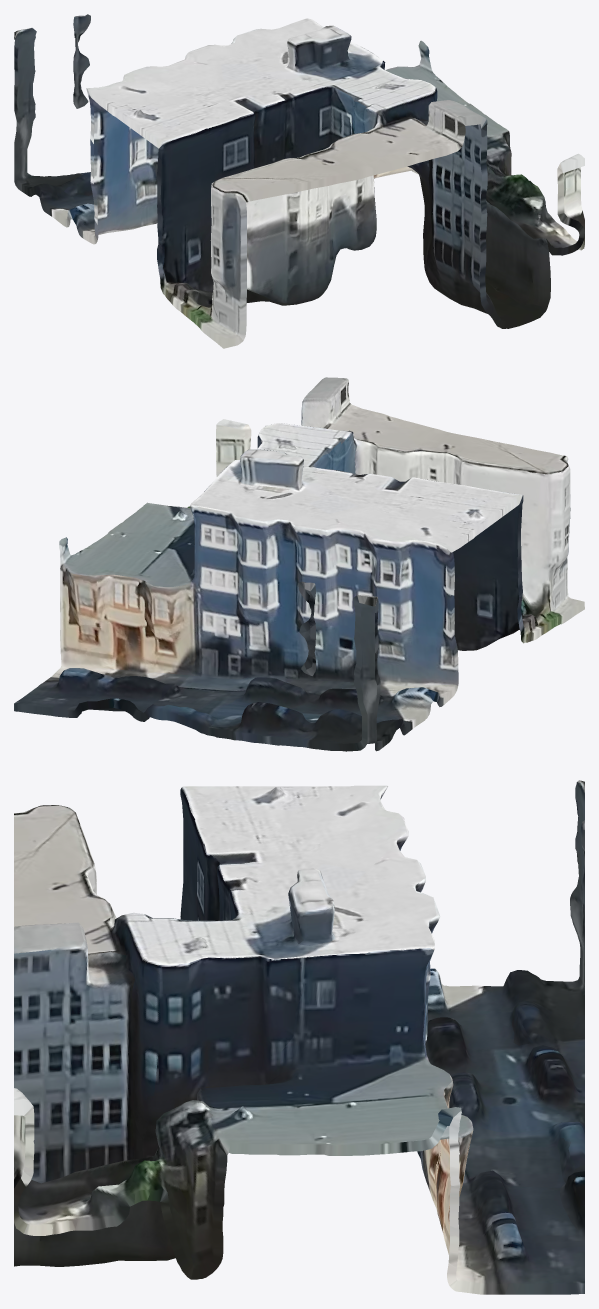
Rendered from z20-167732-405196-h0-yup-uvflip-v3-world.glb.
3 views of the same model, one above another, from view 1: azimuth 30°, elevation 25°; view 2: azimuth 150°, elevation 25°; view 3: azimuth 270°, elevation 25° (orthographic). The views are drawn at different scales.
Bounding box in the file's own units: 30.2 × 18.8 × 30.32.
1 material, 1 textured.
